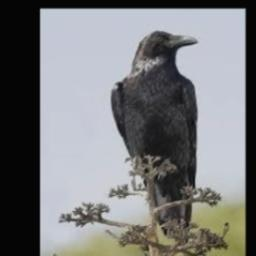Crow: (112, 31, 198, 246)
